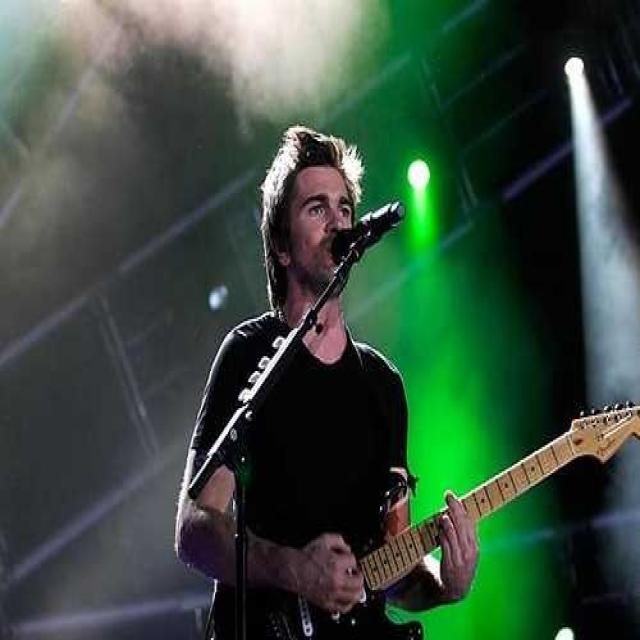microphone: (335, 199, 404, 255)
